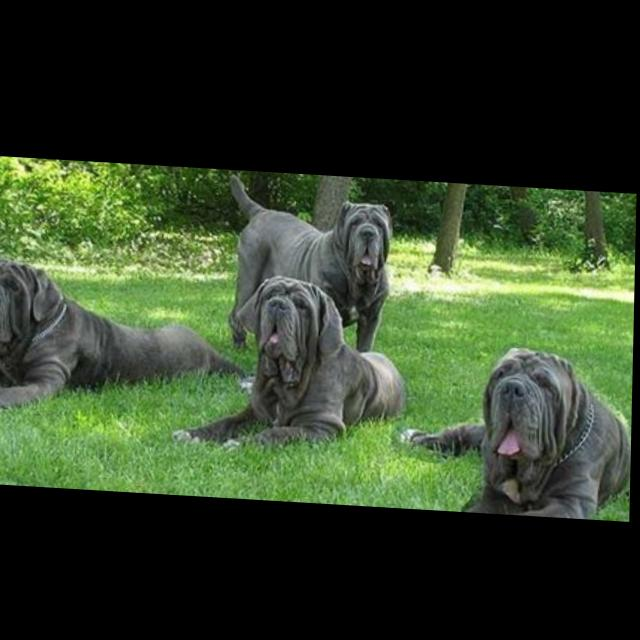mastino_napoletano: (175, 267, 411, 455), (1, 259, 252, 425), (405, 336, 635, 515), (227, 173, 394, 354)
